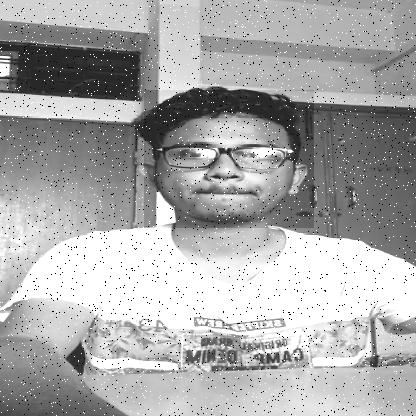Normal: (144, 90, 314, 228)
